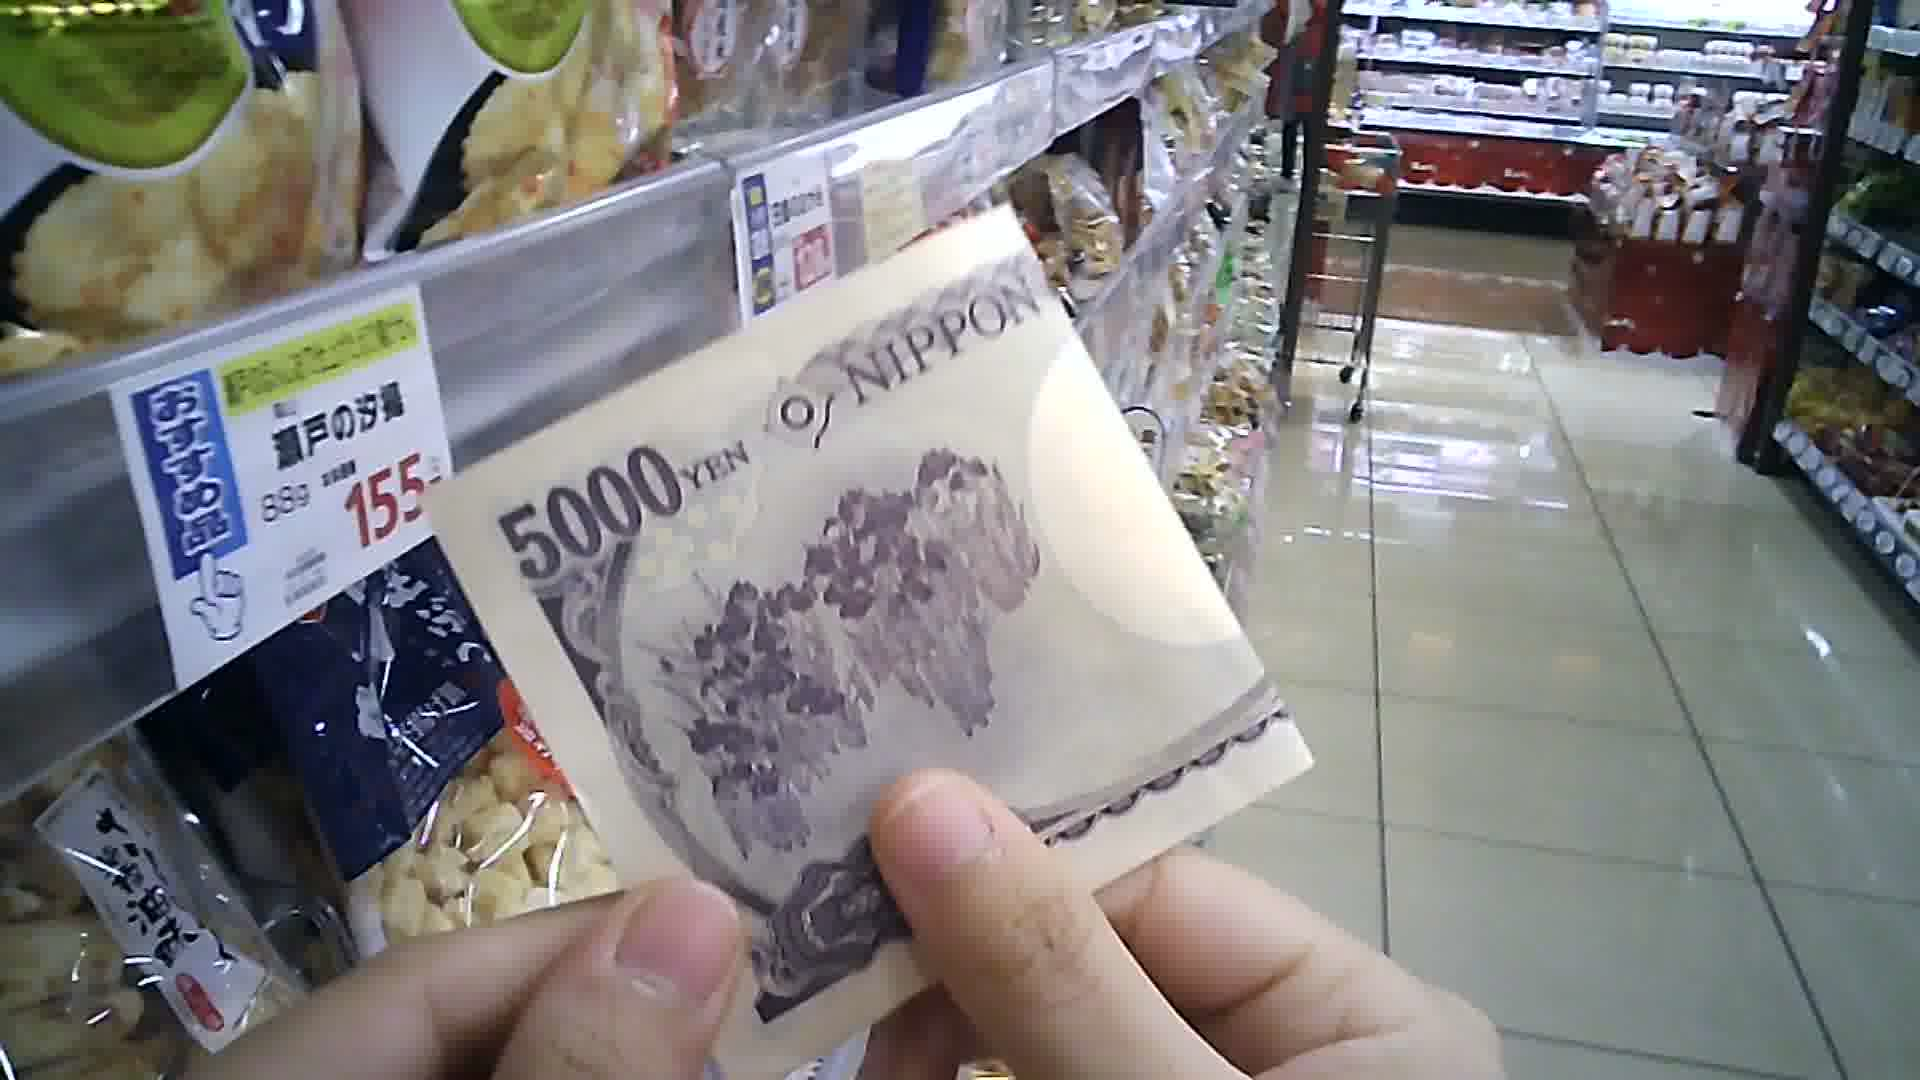5,000 Yen: (418, 198, 1340, 1068)
